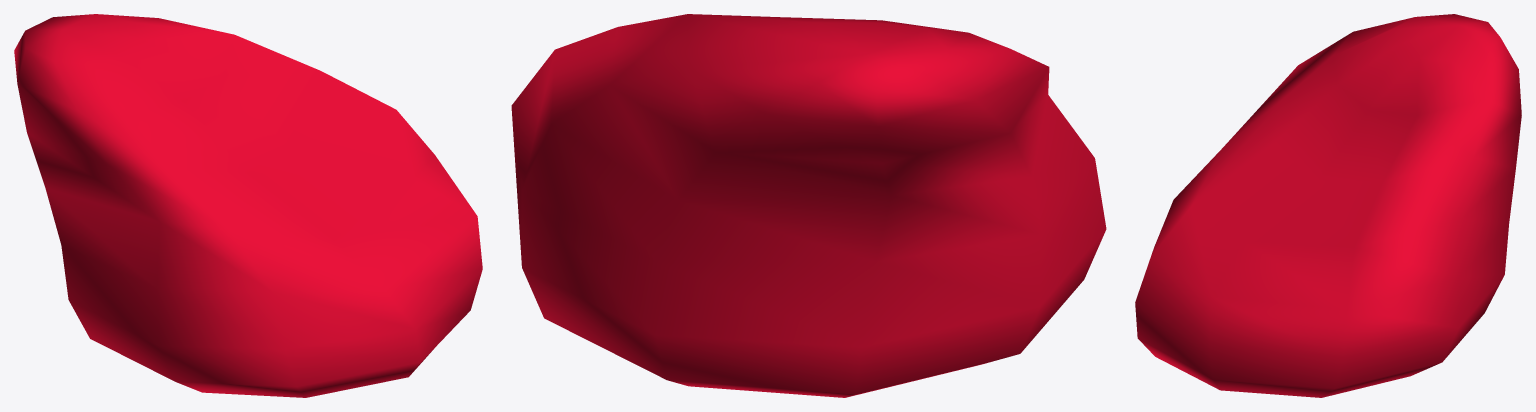
The model's file is Ottoman.fbx.
3 renders of one model, left to right at view 1: azimuth 30°, elevation 25°; view 2: azimuth 150°, elevation 25°; view 3: azimuth 270°, elevation 25°, orthographic. The views are drawn at different scales.
Visible parts, largest first — view 1: Sphere; view 2: Sphere; view 3: Sphere.
Boxes of the visible parts, <box> form: Sphere: <box>14,14,482,397</box>; Sphere: <box>511,14,1106,397</box>; Sphere: <box>1135,14,1521,397</box>.
Size of the model in its own units: 146 by 102 by 140.
